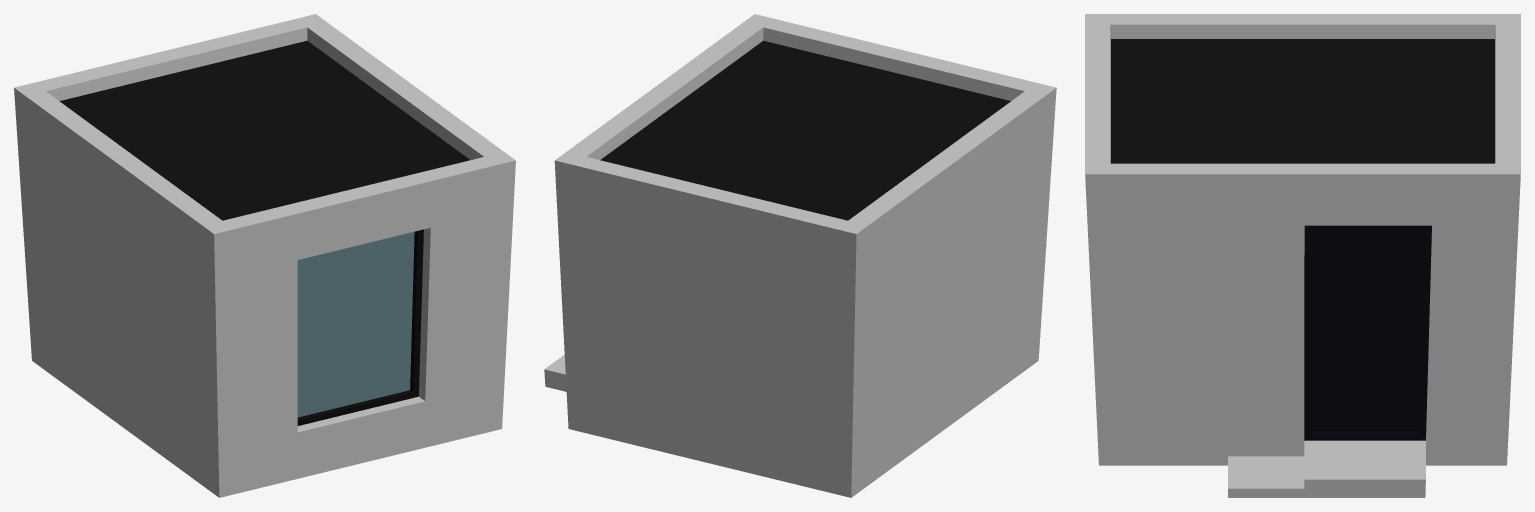
File: BuildingResident5.fbx
3 views of the same model, side by side, from view 1: azimuth 30°, elevation 25°; view 2: azimuth 150°, elevation 25°; view 3: azimuth 270°, elevation 25° (orthographic). The views are drawn at different scales.
Visible parts, largest first — view 1: BuildingResident5; view 2: BuildingResident5; view 3: BuildingResident5.
Boxes of the visible parts, x1,y1,x2,y2 form: BuildingResident5: (14,14,515,497); BuildingResident5: (544,14,1056,497); BuildingResident5: (1085,14,1520,497).
Bounding box in the file's own units: 10 × 7.29 × 9.74.
